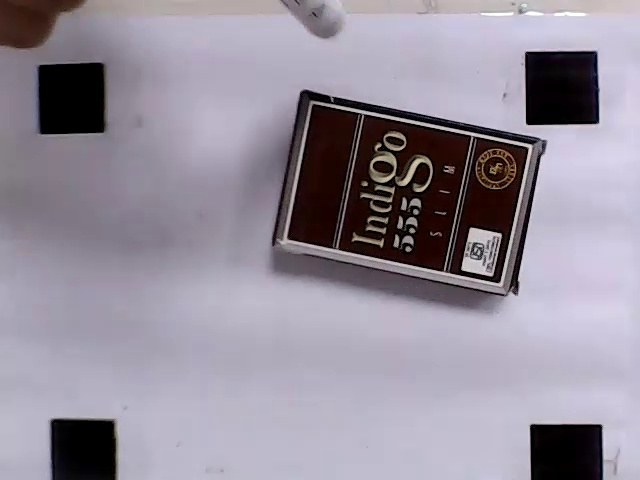BEX: (285, 103, 532, 284)
